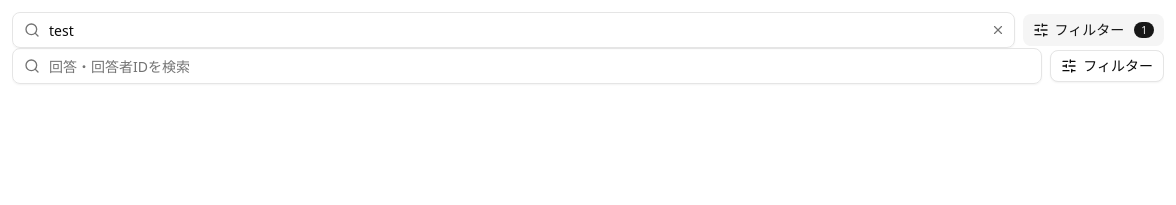
ResponseFilter Component › toggles filter panel when filter button is clicked
// Open panel
Click the button "フィルター" at (1107, 66), box left=1050, top=50, right=1164, bottom=82
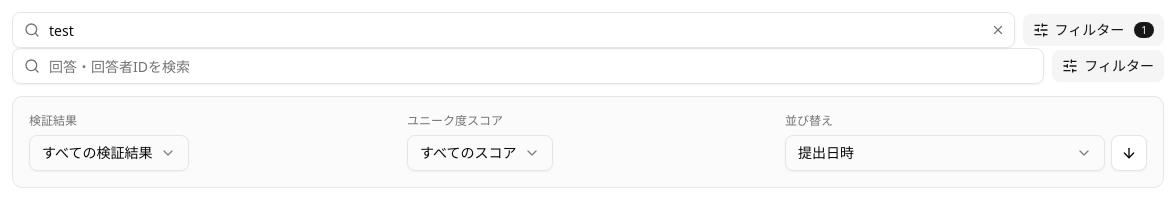
Expected: the text "検証結果" is shown, left=29, top=112, right=77, bottom=129
Expected: the text "ユニーク度スコア" is shown, left=407, top=112, right=503, bottom=129
Expected: the text "並び替え" is shown, left=785, top=112, right=833, bottom=129
